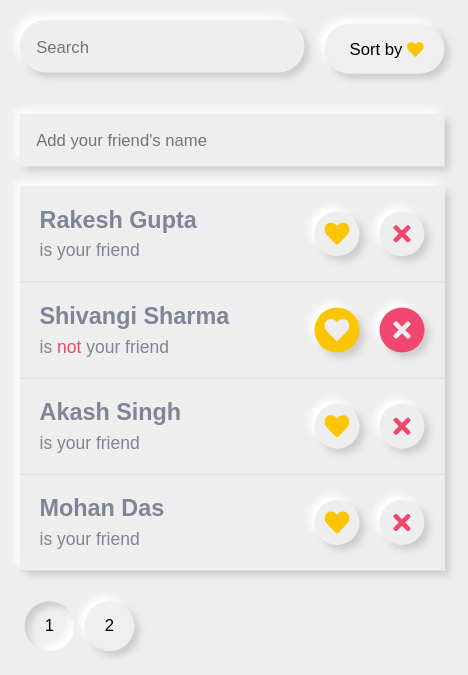
Test case: <FriendsList /> › pagination works
The width and height of the screenshot is (468, 675).
Check: the heading "Rakesh Gupta" is shown, box left=40, top=206, right=197, bottom=234
Check: the button "1" is enabled, box left=24, top=601, right=74, bottom=651
Type "Test Friend" into the field with test id "add-friend-input" at (232,140), box left=20, top=114, right=444, bottom=166
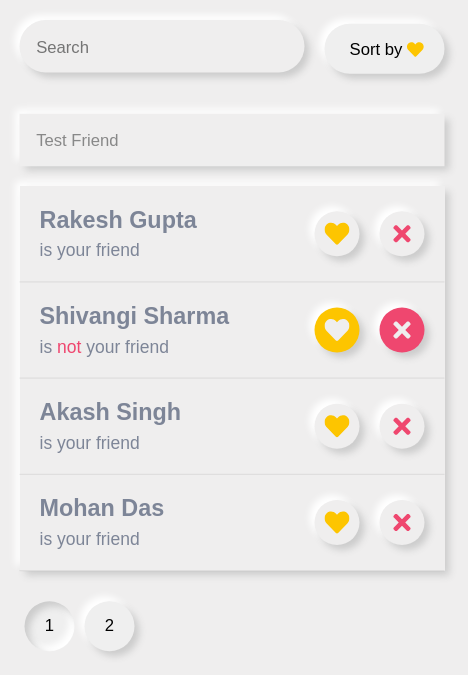
Press Enter in the field with test id "add-friend-input", box left=20, top=114, right=444, bottom=166
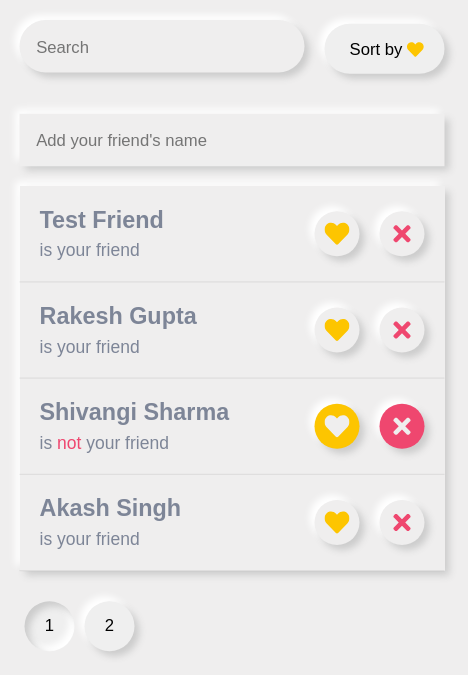
Click the button "2" at (110,626), box left=84, top=601, right=134, bottom=651
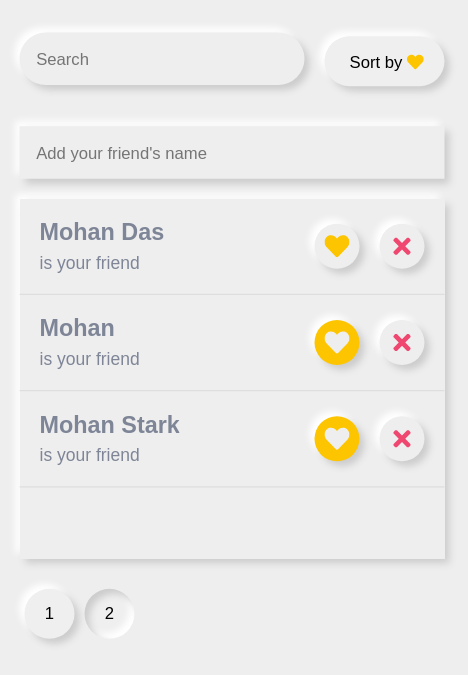
Check: the heading "Mohan Das" is shown, box left=40, top=219, right=164, bottom=246
